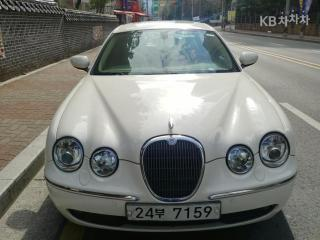1: (182, 207, 191, 219)
2: (133, 206, 146, 220)
4: (144, 206, 155, 220)
5: (192, 205, 204, 220)
7: (172, 207, 183, 220)
9: (204, 205, 212, 218)
plate: (121, 199, 225, 226)
부: (154, 207, 166, 219)
